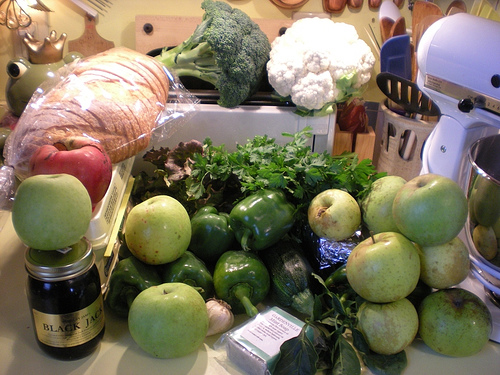cauliflower: (266, 16, 376, 110)
